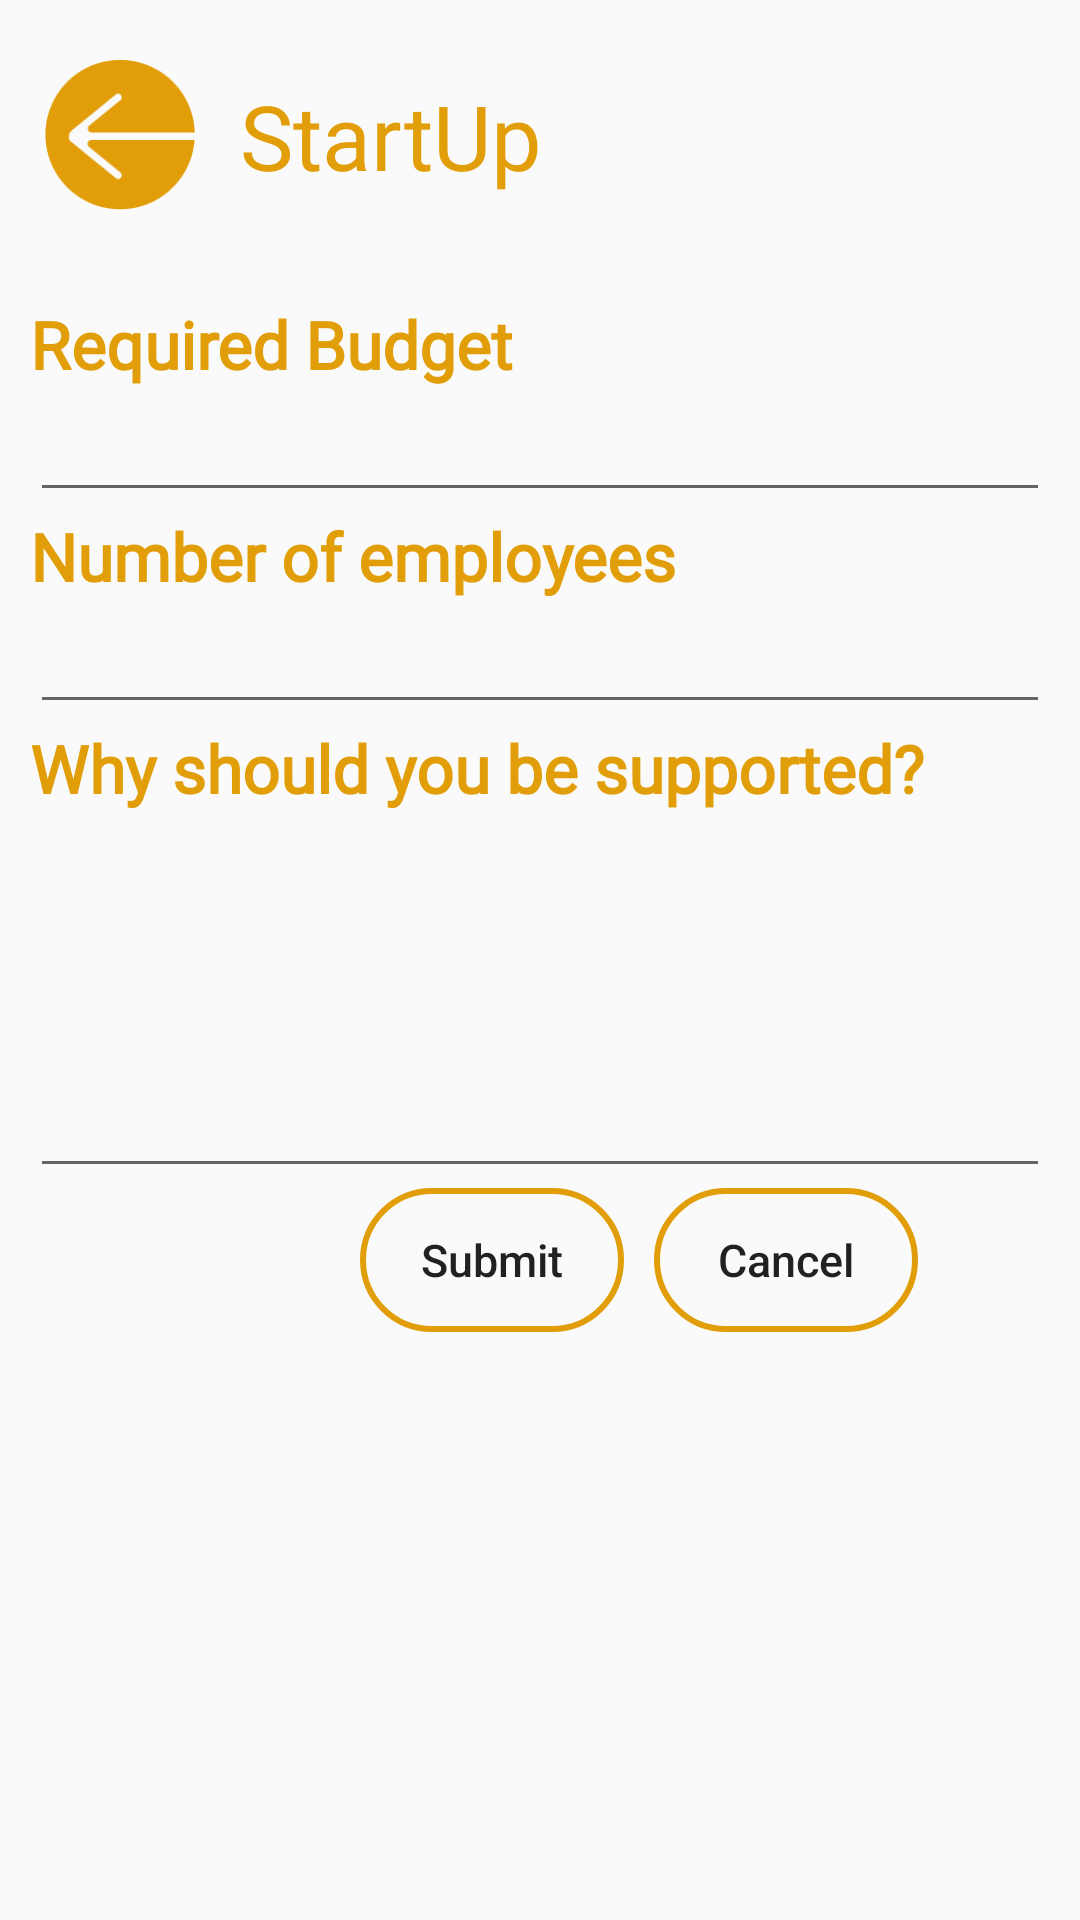

Named icons in this screenshot (1080w x 1920h) and their bounding boxes, (x1, y1, x2, y2):
back: (45, 60, 195, 210)
